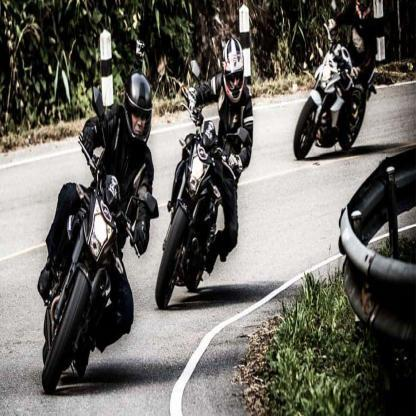helmet: (121, 71, 153, 151), (220, 37, 245, 104), (354, 0, 373, 22)
